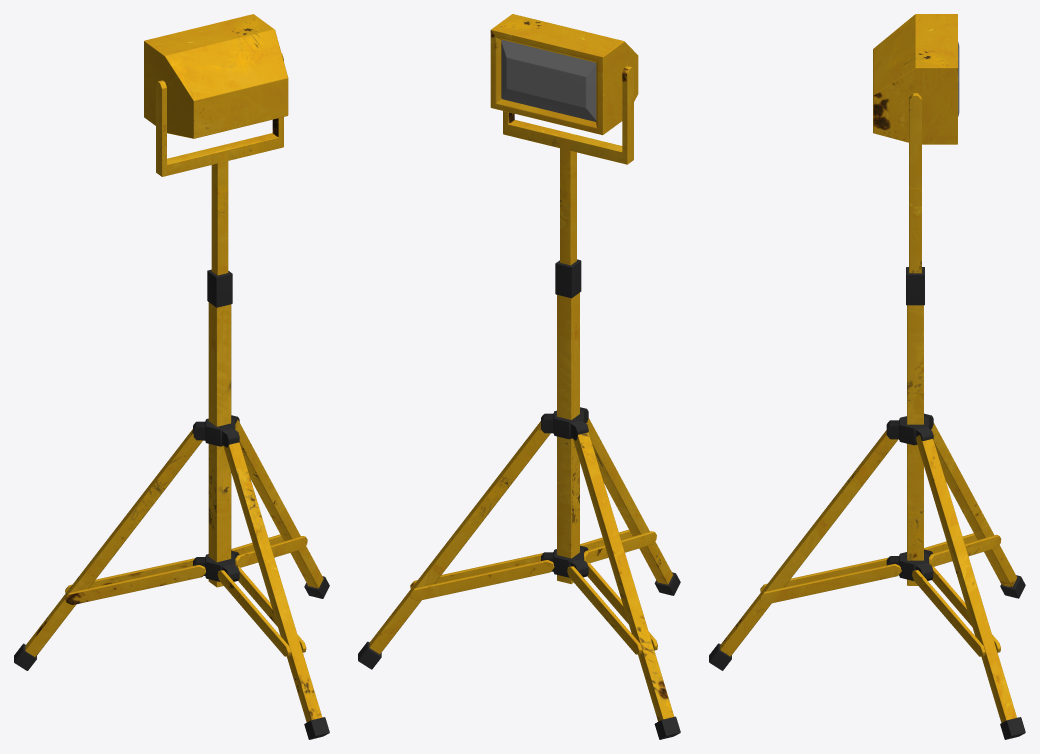
File: Construction_Floor_TallTripod_1Head.fbx
3 views of the same model, side by side, from view 1: azimuth 30°, elevation 25°; view 2: azimuth 150°, elevation 25°; view 3: azimuth 270°, elevation 25° (orthographic). The views are drawn at different scales.
Parts seen in each view (by area): view 1: Construction_Floor_TallTripod_1Head_LOD0; view 2: Construction_Floor_TallTripod_1Head_LOD0; view 3: Construction_Floor_TallTripod_1Head_LOD0.
Part boxes in pixels (x1,y1,x2,y2): Construction_Floor_TallTripod_1Head_LOD0: (14, 14, 329, 739); Construction_Floor_TallTripod_1Head_LOD0: (358, 14, 680, 739); Construction_Floor_TallTripod_1Head_LOD0: (709, 14, 1025, 739).
Size of what is drawn, in the model's own units: 85.81 by 162 by 74.38.
Materials: 4 (1 with a texture image).
